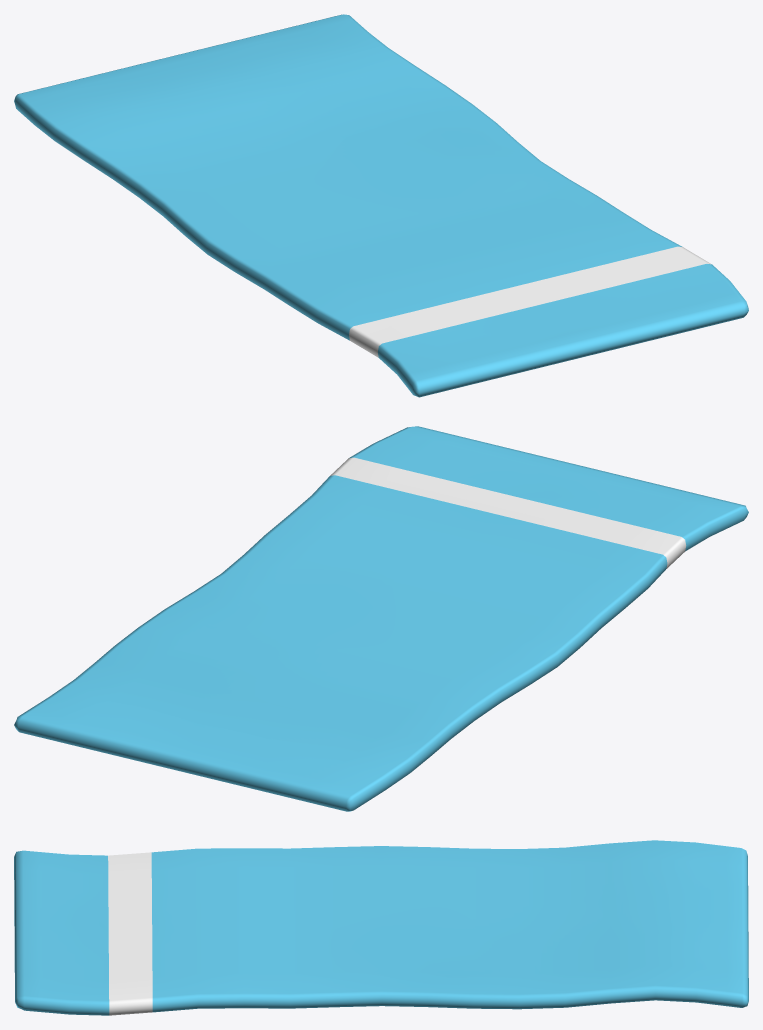
Rendered from Towel_Blue.fbx.
3 views of the same model, one above another, from view 1: azimuth 30°, elevation 25°; view 2: azimuth 150°, elevation 25°; view 3: azimuth 270°, elevation 25° (orthographic). The views are drawn at different scales.
Visible parts, largest first — view 1: Towel_Blue; view 2: Towel_Blue; view 3: Towel_Blue.
Part boxes in pixels (x1,y1,x2,y2): Towel_Blue: (14, 14, 748, 397); Towel_Blue: (14, 426, 748, 811); Towel_Blue: (14, 840, 748, 1015).
Size of the model in its own units: 126 by 6.77 by 242.
Materials: 1 (1 with a texture image).
